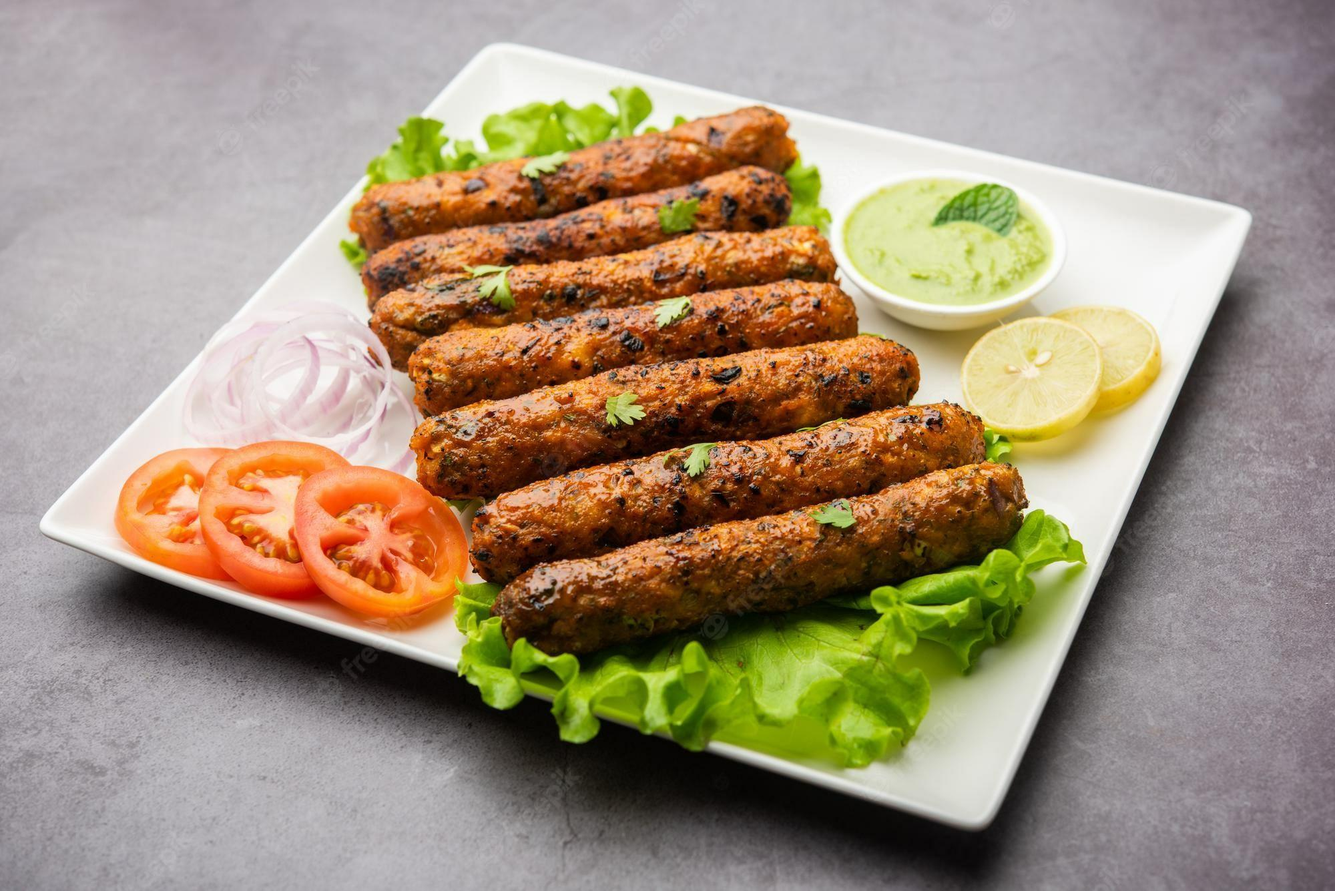GreenChutney: (845, 179, 1050, 303)
Kebab: (495, 462, 1027, 658), (471, 401, 990, 589), (419, 336, 937, 501), (372, 224, 845, 371), (407, 283, 890, 422), (362, 165, 793, 319), (351, 106, 799, 245)
